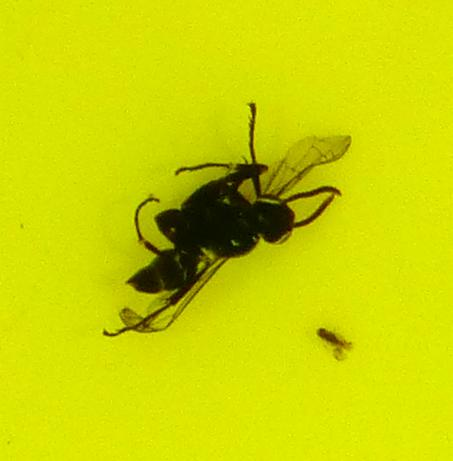Hemiptera: (314, 325, 353, 361)
Hymenoptera: (100, 100, 352, 339)
